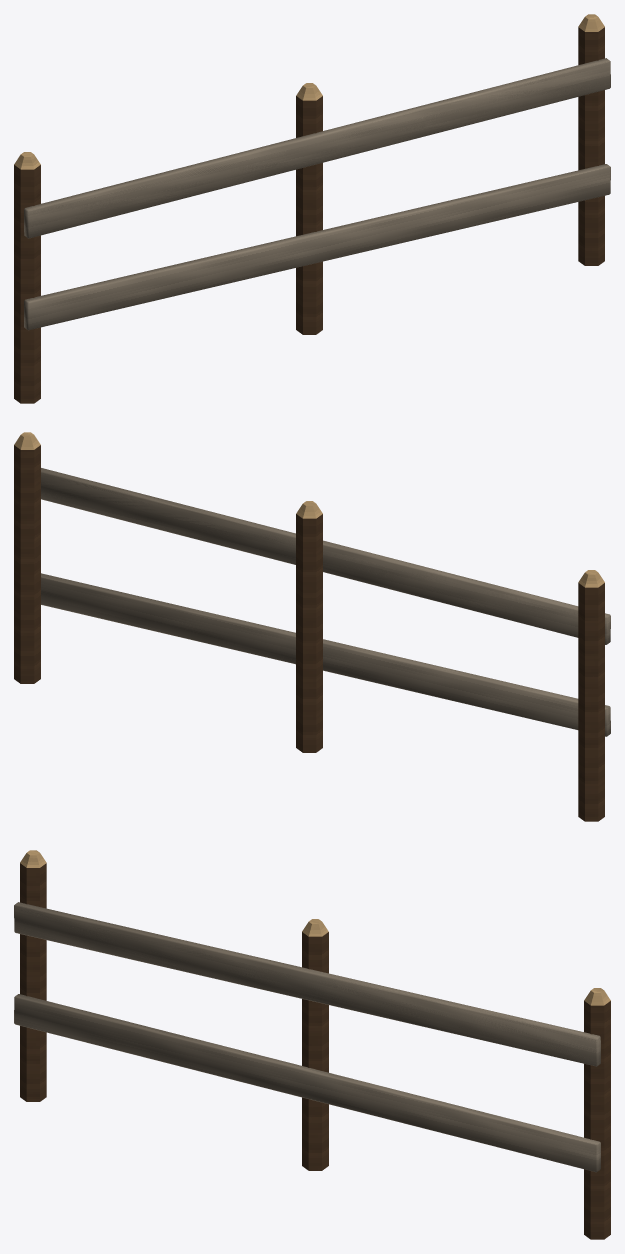
Rendered from cerca_madeira.glb.
The picture shows the model from 3 angles, top to bottom: view 1: azimuth 30°, elevation 25°; view 2: azimuth 150°, elevation 25°; view 3: azimuth 330°, elevation 25°; orthographic projection.
Parts seen in each view (by area): view 1: Inteiro, Peca_04, Peca_03; view 2: Inteiro, Peca_04, Peca_03; view 3: Inteiro, Peca_04.
Boxes of the visible parts, <box> form: Inteiro: <box>14,14,610,403</box>; Peca_04: <box>24,58,610,237</box>; Peca_03: <box>25,168,596,302</box>; Inteiro: <box>14,432,610,821</box>; Peca_04: <box>41,468,610,644</box>; Peca_03: <box>41,573,607,736</box>; Inteiro: <box>14,850,610,1239</box>; Peca_04: <box>14,902,600,1065</box>.
Bounding box in the file's own units: 3 × 1.2 × 0.15.
1 material, 1 textured.
